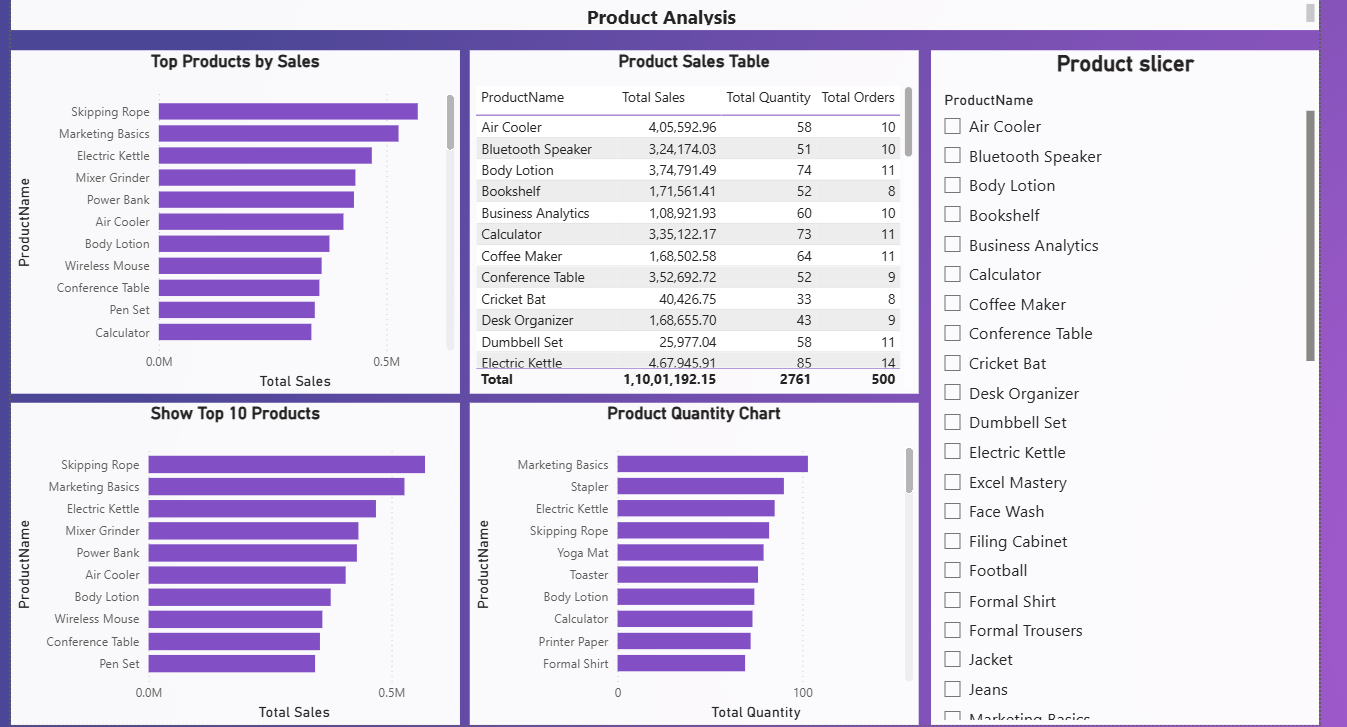

What the dashboard file says about the page in this screenshot:
{"tool":"powerbi","page":{"name":"Product Analysis","canvas":[1280,720],"ordinal":1},"visuals":[{"type":"clusteredBarChart","title":"Top Products by Sales","fields":{"Category":["Products.ProductName"],"Y":["Orders.Total Sales"]},"box":[0,59.9,439,336.3],"z":0},{"type":"clusteredBarChart","title":"Show Top 10 Products","fields":{"Category":["Products.ProductName"],"Y":["Orders.Total Sales"]},"box":[0,404.8,439,315.5],"z":1000},{"type":"tableEx","title":"Product Sales Table","fields":{"Values":["Products.ProductName","Orders.Total Sales","Orders.Total Quantity","Orders.Total Orders"]},"box":[448.8,59.9,439,336.3],"z":2000},{"type":"barChart","title":"Product Quantity Chart","fields":{"Category":["Products.ProductName"],"Y":["Orders.Total Quantity"]},"box":[448.8,404.8,439,315.5],"z":3000},{"type":"slicer","title":"Product slicer","fields":{"Values":["Products.ProductName"]},"box":[900,59.9,380.3,660.3],"z":4000},{"type":"textbox","box":[0,9.8,1280.3,30.6],"z":4001}]}

Visuals, with their boxes in screenshot pixels (x1, y1, x2, y2):
"Top Products by Sales" clusteredBarChart: l=0, t=44, r=453, b=391
"Show Top 10 Products" clusteredBarChart: l=0, t=400, r=453, b=725
"Product Sales Table" tableEx: l=463, t=44, r=915, b=391
"Product Quantity Chart" barChart: l=463, t=400, r=915, b=725
"Product slicer" slicer: l=928, t=44, r=1320, b=725
textbox: l=0, t=0, r=1320, b=24
